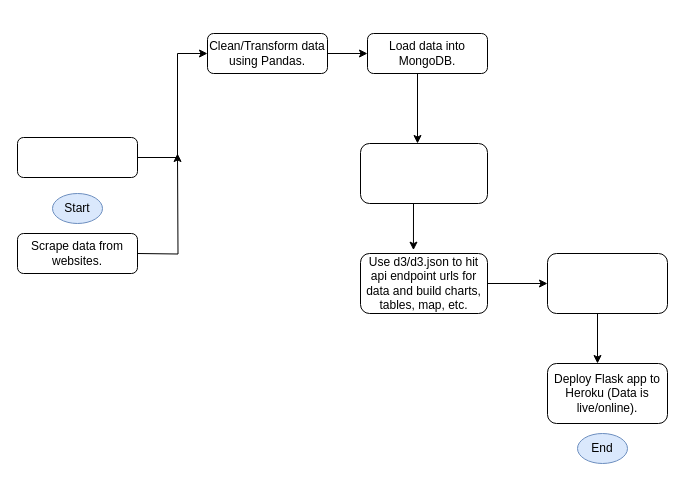
This 685x481 diagram has some shape labels left out. Here are the shapes that lost their labels. From the top down, the centre of each, then its label:
At point (77, 157): "Extract data from csv files.".
At point (424, 173): "Build API endpoints using Flask to query and retrieve data from database.".
At point (607, 283): "Render charts/map data using Flask HTML templates.".
